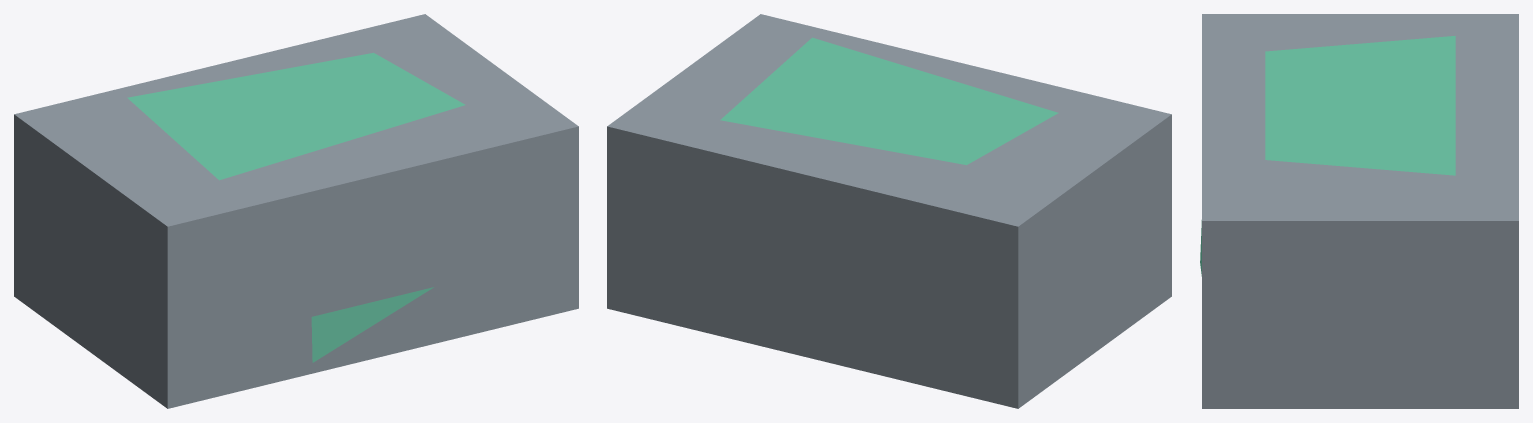
Rendered from CO_TianmenFortress_LOD1.glb.
3 views of the same model, side by side, from view 1: azimuth 30°, elevation 25°; view 2: azimuth 150°, elevation 25°; view 3: azimuth 270°, elevation 25° (orthographic). The views are drawn at different scales.
Visible parts, largest first — view 1: EntranceGate; view 2: EntranceGate; view 3: EntranceGate.
Boxes of the visible parts, x1=… form: EntranceGate: x1=14, y1=14, x2=578, y2=408; EntranceGate: x1=607, y1=14, x2=1171, y2=408; EntranceGate: x1=1200, y1=14, x2=1518, y2=408.
Size of the model in its own units: 850 by 398 by 553.
